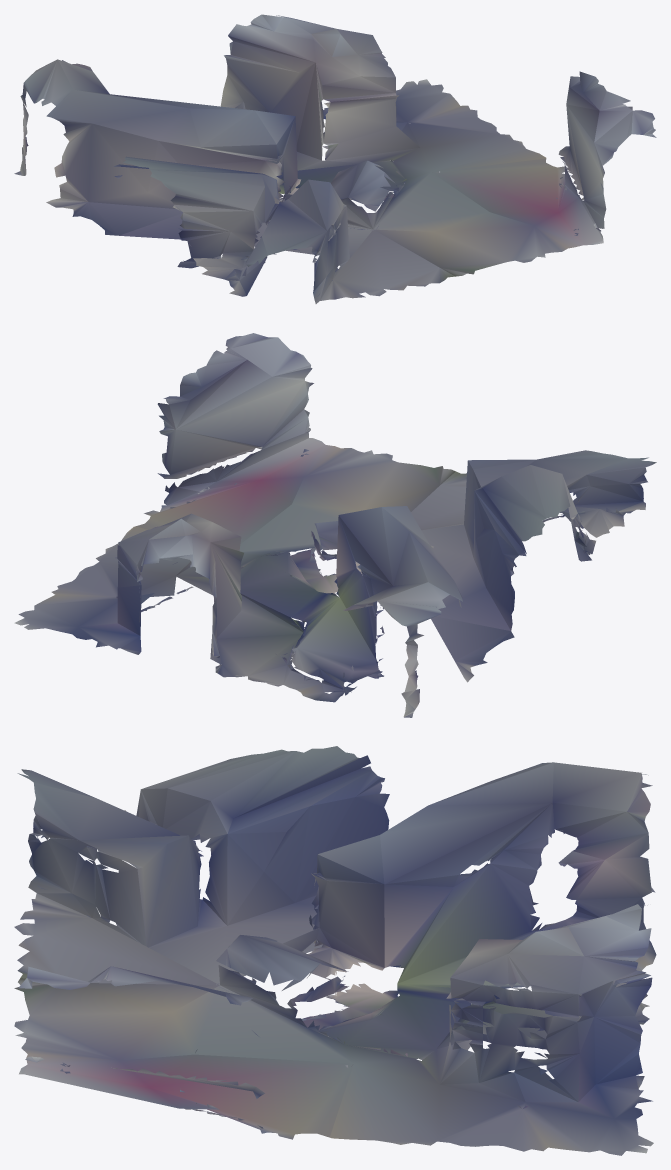
3 views of the same model, one above another, from view 1: azimuth 30°, elevation 25°; view 2: azimuth 150°, elevation 25°; view 3: azimuth 270°, elevation 25° (orthographic). The views are drawn at different scales.
Bounding box in the file's own units: 107 × 31.51 × 106.
